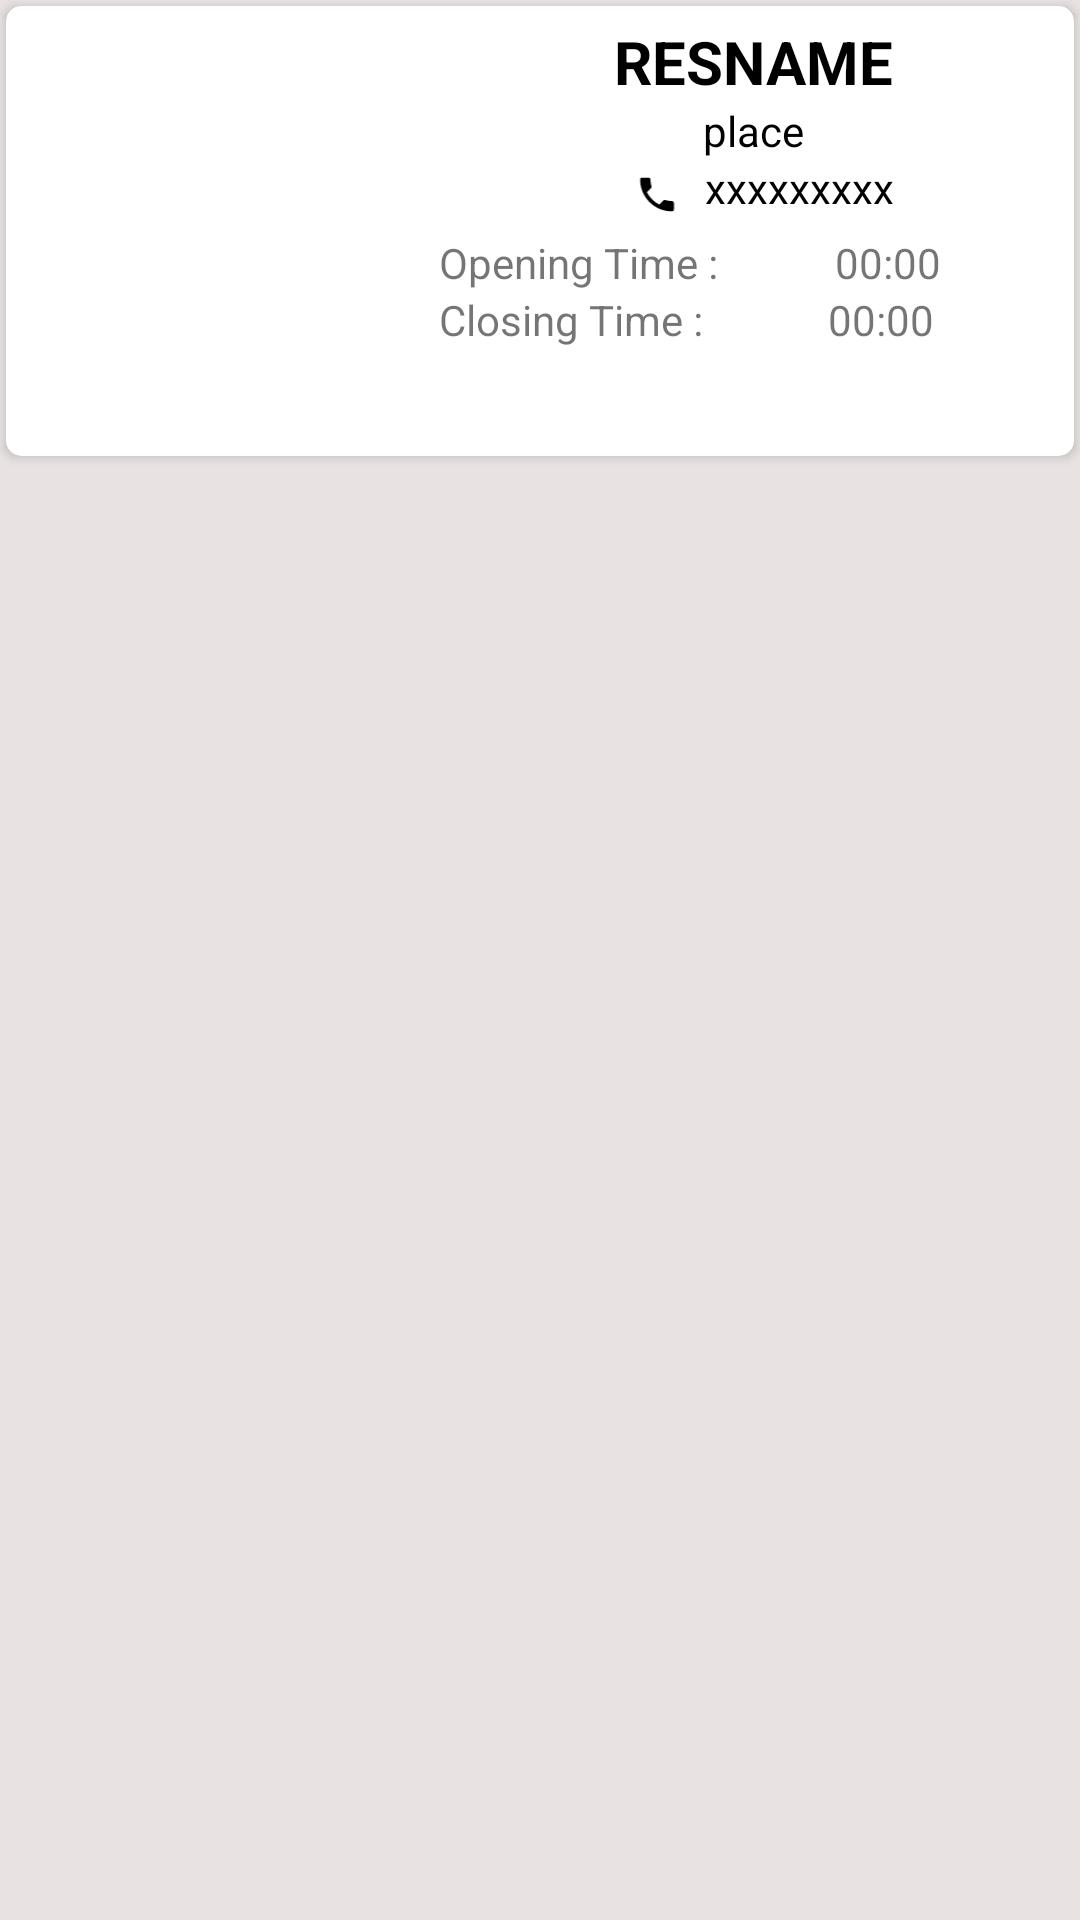

Icons on this 1080w x 1920h Android screen, each with its box as {"x1": x1, "y1": y1, "x2": x2, "y2": y2}:
phone: {"x1": 639, "y1": 177, "x2": 675, "y2": 212}
